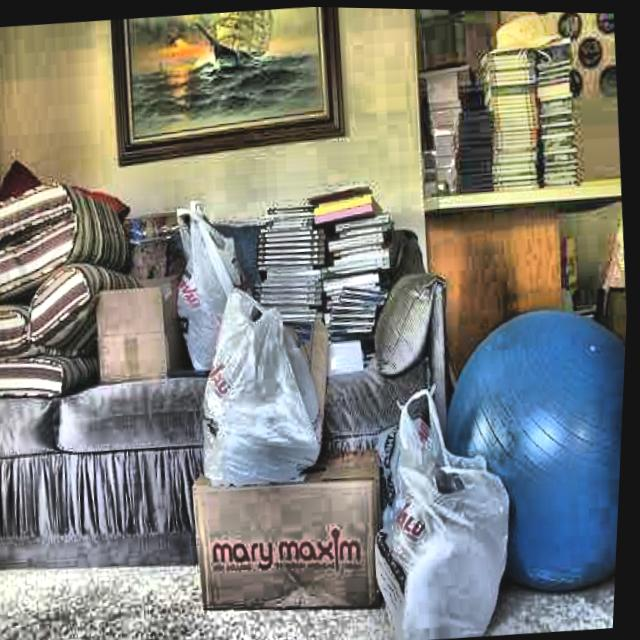Plastic: (373, 364, 539, 640), (185, 278, 352, 504), (163, 201, 271, 370)
